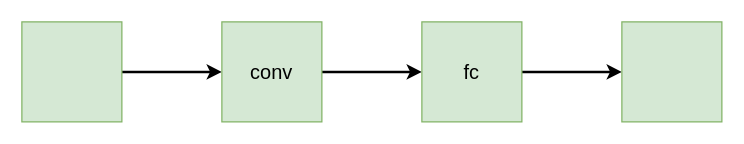
This 744x144 diagram has some shape labels left out. The box of each missing label's shape, as (x1, y1, x2, y2) in pixels:
image: (21, 21, 122, 122)
score: (621, 21, 722, 122)
